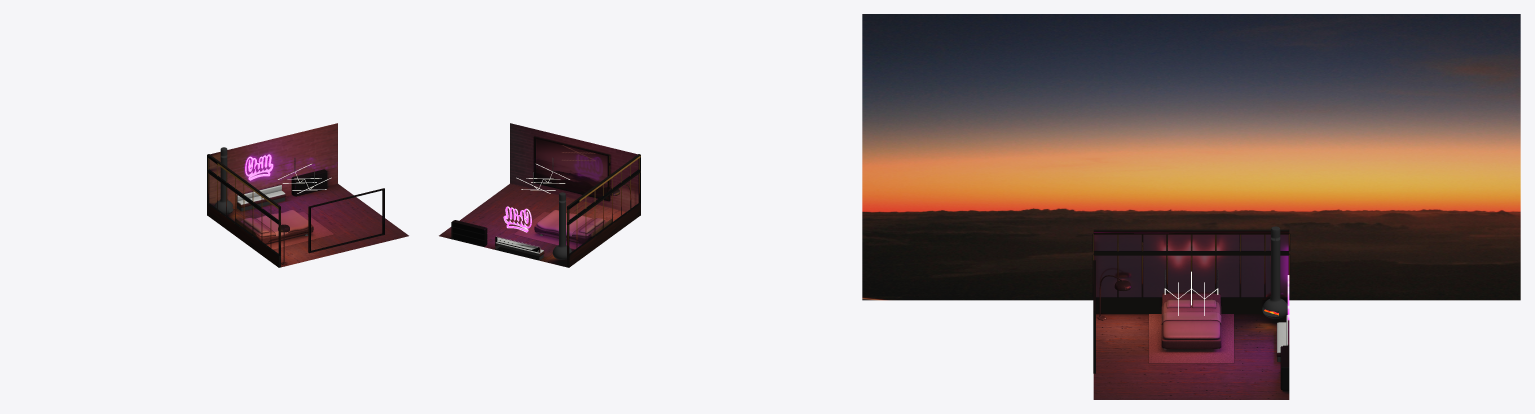
Rendered from modern_bedroom.gltf.
3 views of the same model, side by side, from view 1: azimuth 30°, elevation 25°; view 2: azimuth 150°, elevation 25°; view 3: azimuth 270°, elevation 25° (orthographic). The views are drawn at different scales.
Visible parts, largest first — view 1: Modern Bedroom; view 2: Modern Bedroom; view 3: Backdrop, Modern Bedroom.
Part boxes in pixels (x1,y1,x2,y2): Modern Bedroom: [207, 123, 408, 267]; Modern Bedroom: [439, 123, 640, 267]; Backdrop: [862, 14, 1520, 300]; Modern Bedroom: [1092, 226, 1290, 399].
Size of the model in its own units: 13.41 by 11.24 by 23.43.
Materials: 22 (17 with a texture image).
